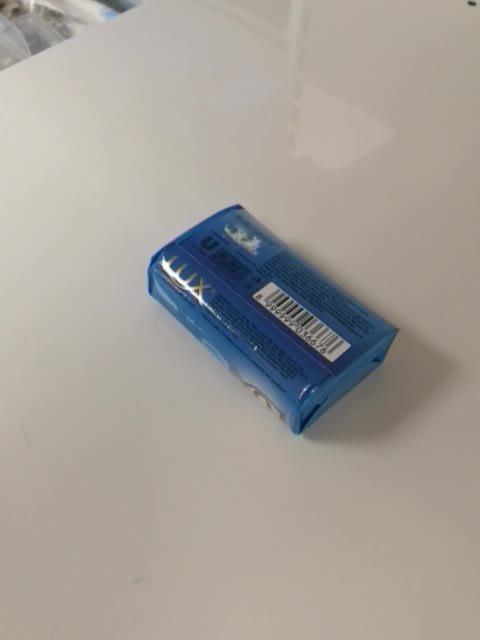soap: (145, 200, 404, 439)
